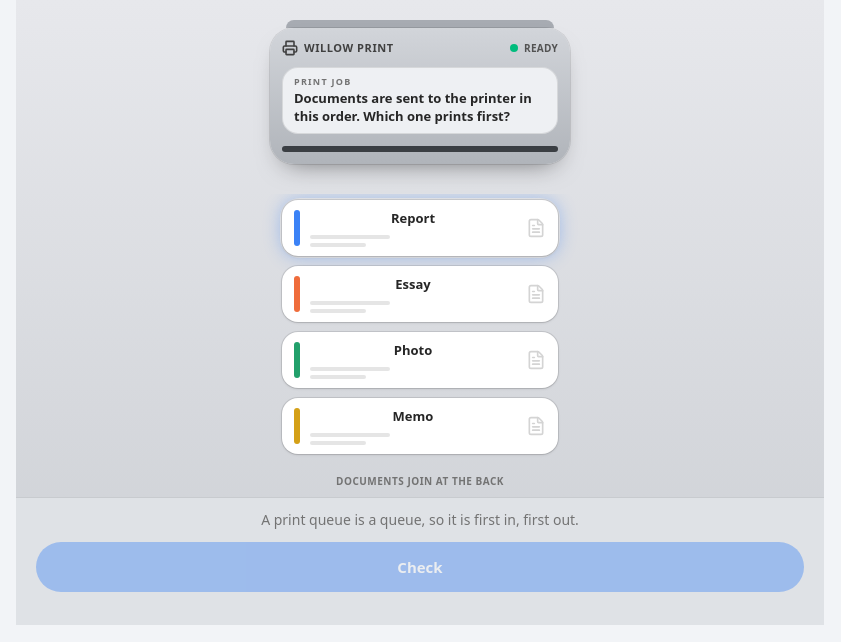
it: S&Q stage: printer skin › on a correct pick, holds the verdict with nothing printed yet (no flicker pop)
Click the button "Report": (420, 228) [280,198,560,258]
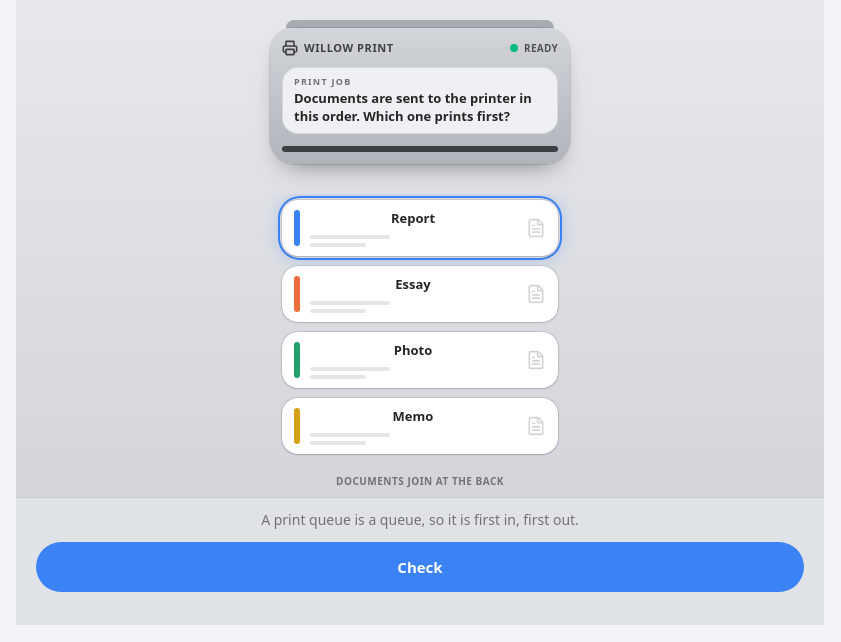
Click the button "Check": (420, 567) [36,542,804,592]
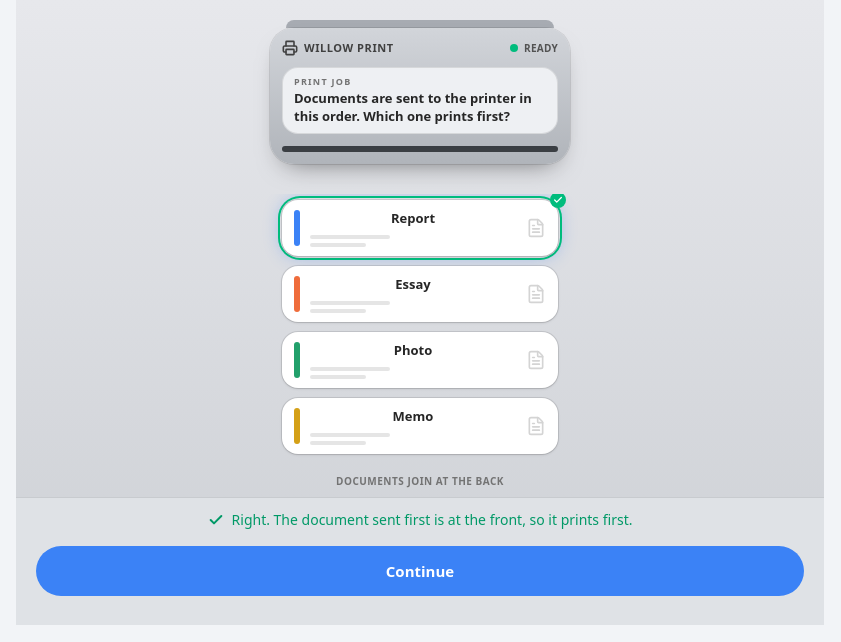
Result: the button "Continue" is shown at [36,546,804,596]
